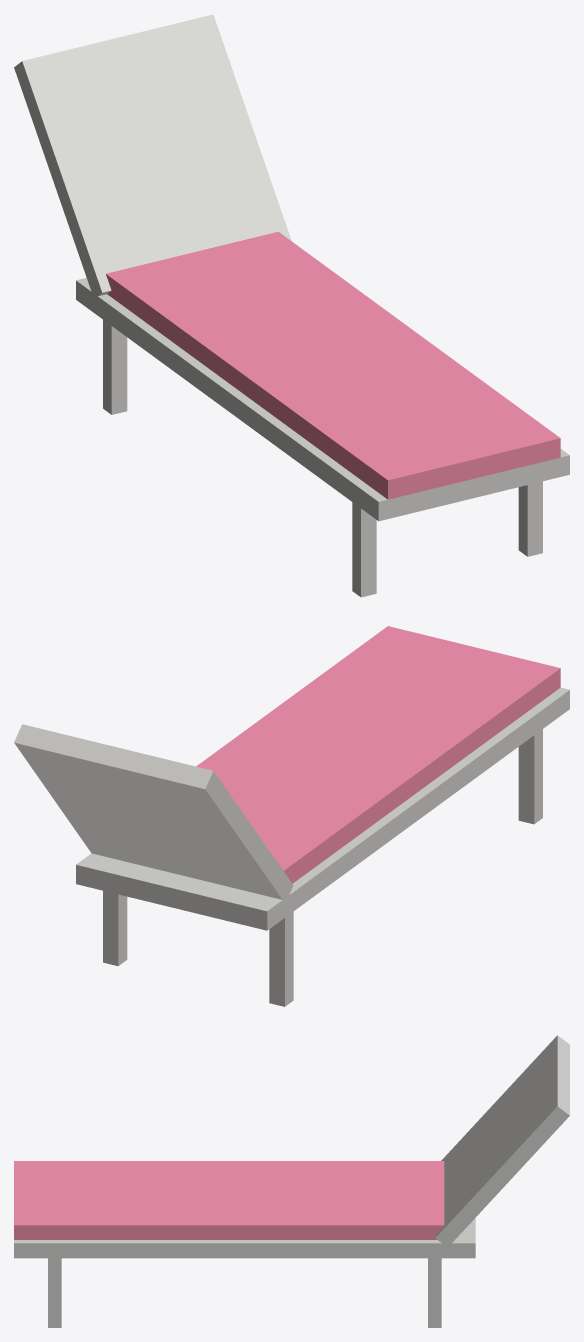
Rendered from LoungeChair.fbx.
The picture shows the model from 3 angles, top to bottom: view 1: azimuth 30°, elevation 25°; view 2: azimuth 150°, elevation 25°; view 3: azimuth 270°, elevation 25°; orthographic projection. The views are drawn at different scales.
Visible parts, largest first — view 1: LoungeChair; view 2: LoungeChair; view 3: LoungeChair.
Part boxes in pixels (x1,y1,x2,y2): LoungeChair: [14, 14, 569, 597]; LoungeChair: [14, 626, 569, 1006]; LoungeChair: [14, 1035, 569, 1327].
Bounding box in the file's own units: 0.62 × 0.9074 × 2.05.
